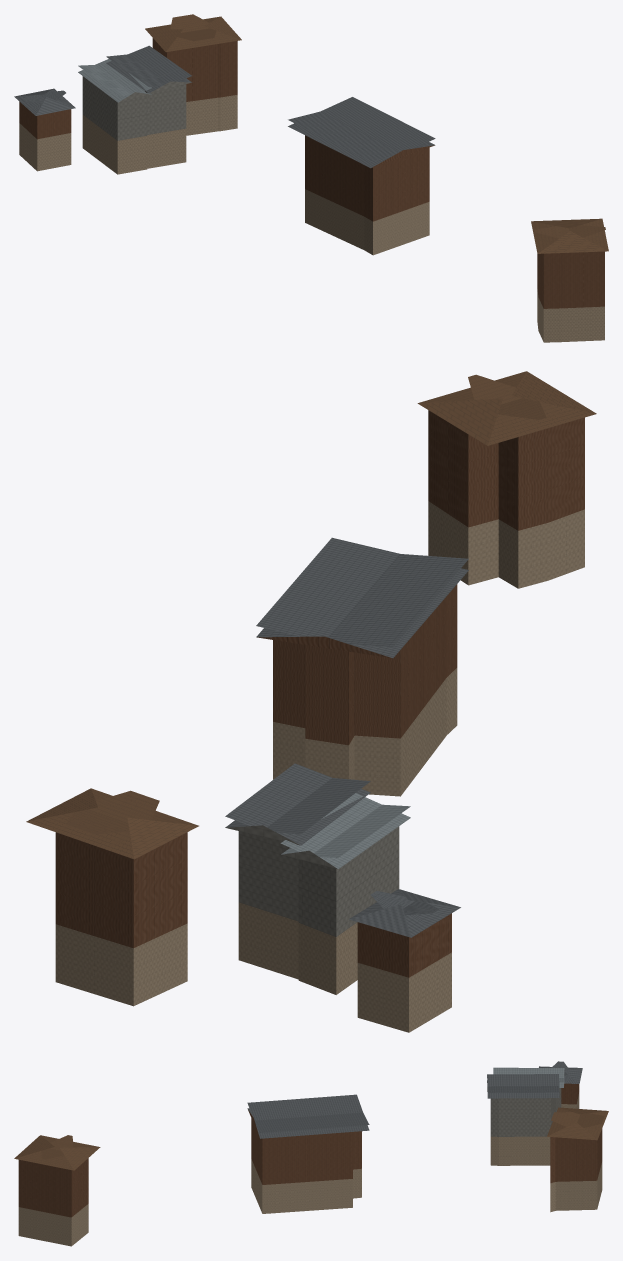
The model's file is bld_c31_-39_460.gltf.
The picture shows the model from 3 angles, top to bottom: view 1: azimuth 30°, elevation 25°; view 2: azimuth 150°, elevation 25°; view 3: azimuth 270°, elevation 25°; orthographic projection. The views are drawn at different scales.
Visible parts, largest first — view 1: bld_c31_-39_460; view 2: bld_c31_-39_460; view 3: bld_c31_-39_460.
Boxes of the visible parts, <box> form: bld_c31_-39_460: <box>14,14,608,342</box>; bld_c31_-39_460: <box>26,371,596,1032</box>; bld_c31_-39_460: <box>14,1061,608,1246</box>.
Bounding box in the file's own units: 46.87 × 16.1 × 94.93.
8 materials, 8 textured.
